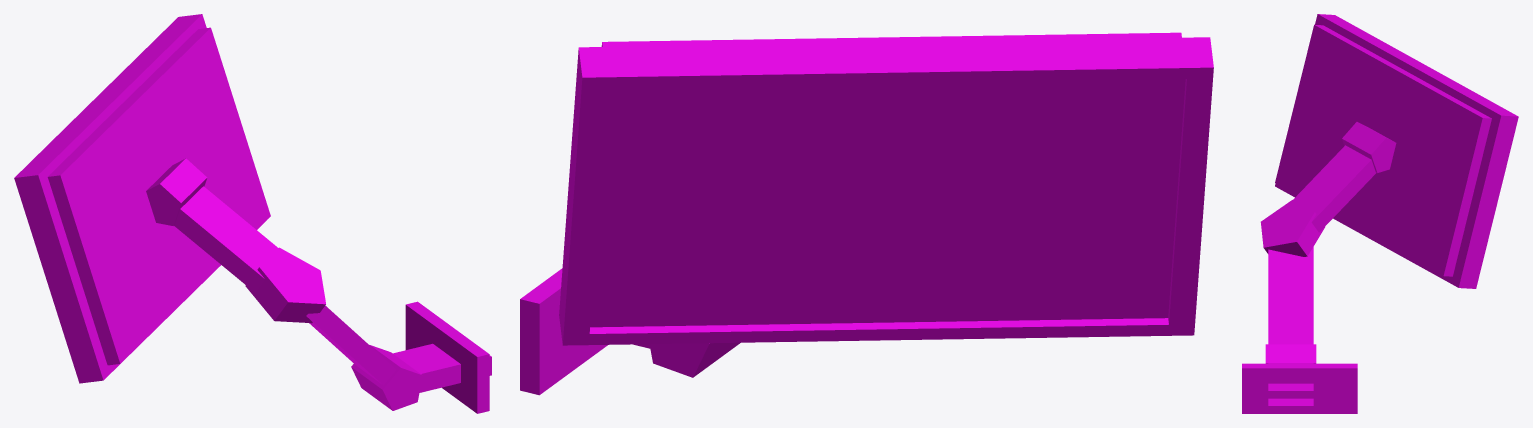
Rendered from Monitor.fbx.
The picture shows the model from 3 angles, left to right: view 1: azimuth 30°, elevation 25°; view 2: azimuth 150°, elevation 25°; view 3: azimuth 270°, elevation 25°; orthographic projection. The views are drawn at different scales.
Parts seen in each view (by area): view 1: pCube25; view 2: pCube25; view 3: pCube25.
Part boxes in pixels (x1,y1,x2,y2): pCube25: (14,14,491,413); pCube25: (520,32,1213,395); pCube25: (1242,14,1518,413).
Bounding box in the file's own units: 278 × 189 × 190.
